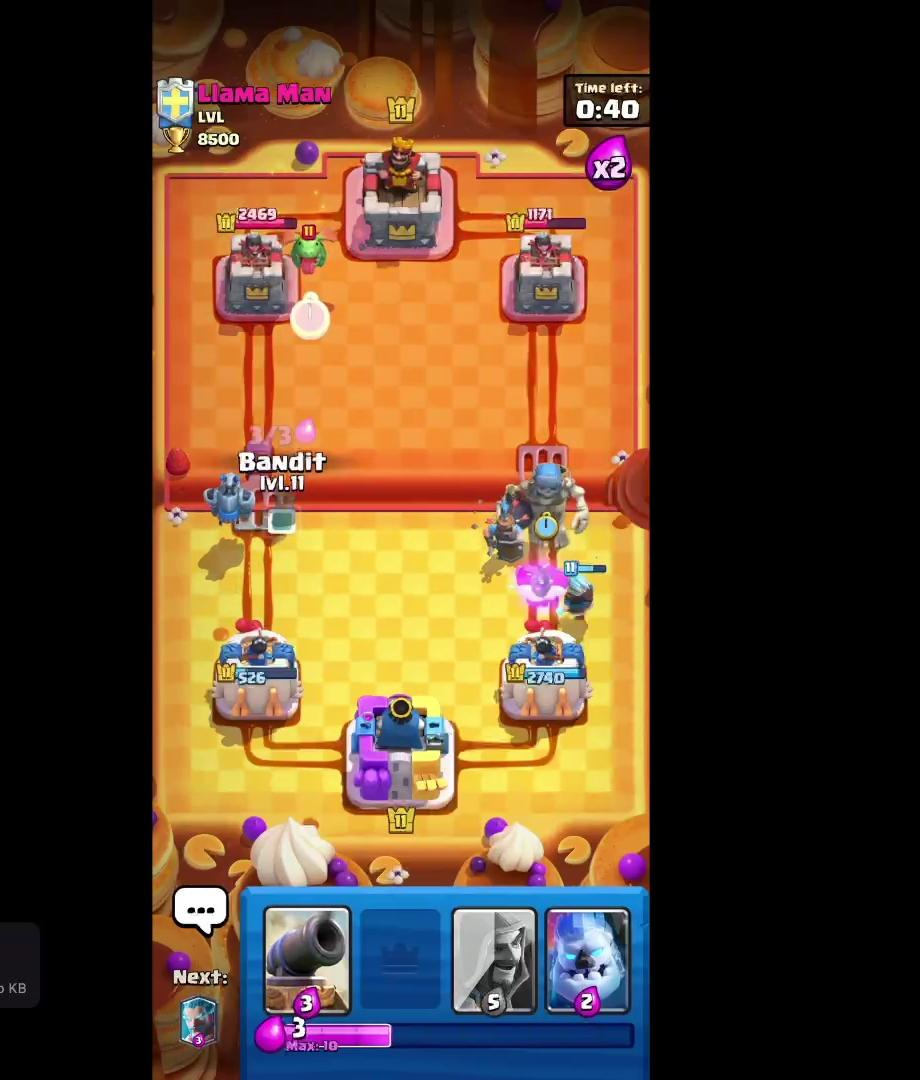Baby Dragon: (266, 220, 346, 279)
